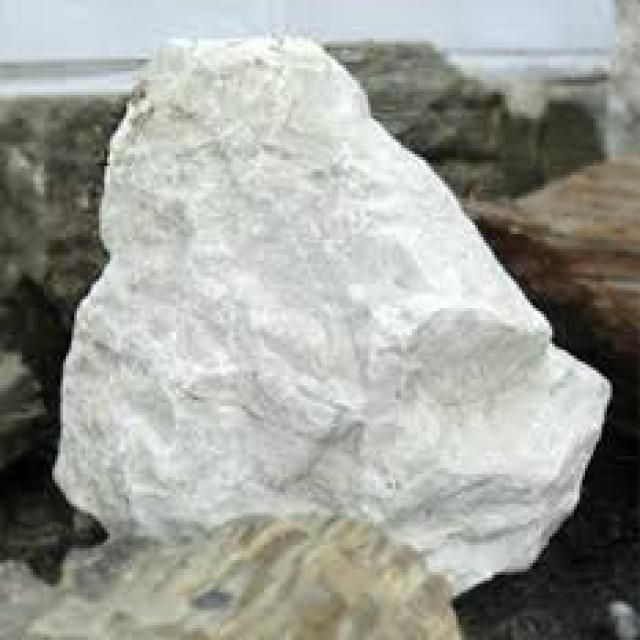Metamorphic: (47, 35, 593, 566)
